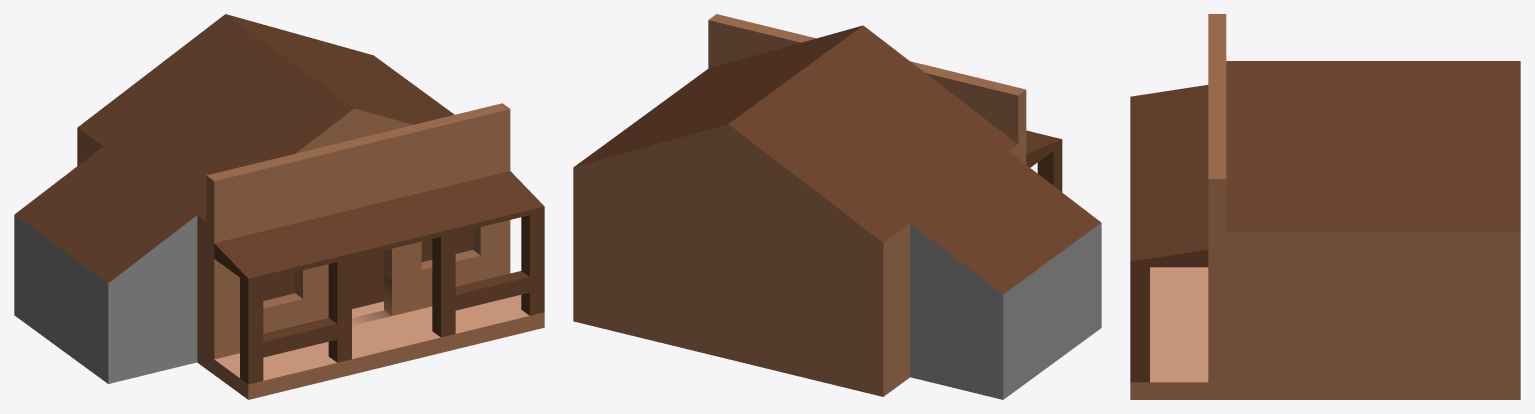
The model's file is Sheriff.fbx.
3 renders of one model, left to right at view 1: azimuth 30°, elevation 25°; view 2: azimuth 150°, elevation 25°; view 3: azimuth 270°, elevation 25°, orthographic. The views are drawn at different scales.
Visible parts, largest first — view 1: pCube1; view 2: pCube1; view 3: pCube1.
Boxes of the visible parts, left/top/right/bottom form: pCube1: left=14, top=14, right=544, bottom=399; pCube1: left=573, top=14, right=1101, bottom=399; pCube1: left=1130, top=14, right=1520, bottom=399.
Bounding box in the file's own units: 26 × 14.5 × 20.
